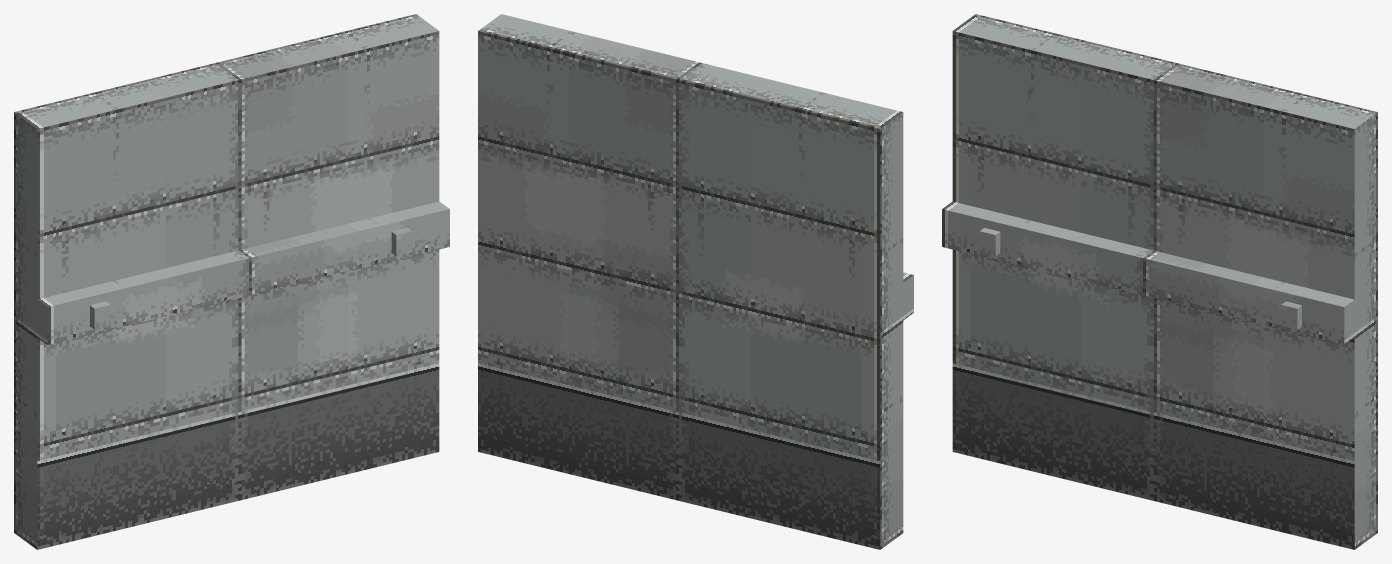
The model's file is arch_wall_variant_a.glb.
3 views of the same model, side by side, from view 1: azimuth 30°, elevation 25°; view 2: azimuth 150°, elevation 25°; view 3: azimuth 330°, elevation 25° (orthographic).
Parts seen in each view (by area): view 1: arch_wall_variant_a; view 2: arch_wall_variant_a; view 3: arch_wall_variant_a.
Part boxes in pixels (x1,y1,x2,y2): arch_wall_variant_a: [14, 14, 449, 549]; arch_wall_variant_a: [478, 14, 913, 549]; arch_wall_variant_a: [942, 14, 1377, 549].
Bounding box in the file's own units: 4 × 4 × 0.66.
Materials: 1 (1 with a texture image).
